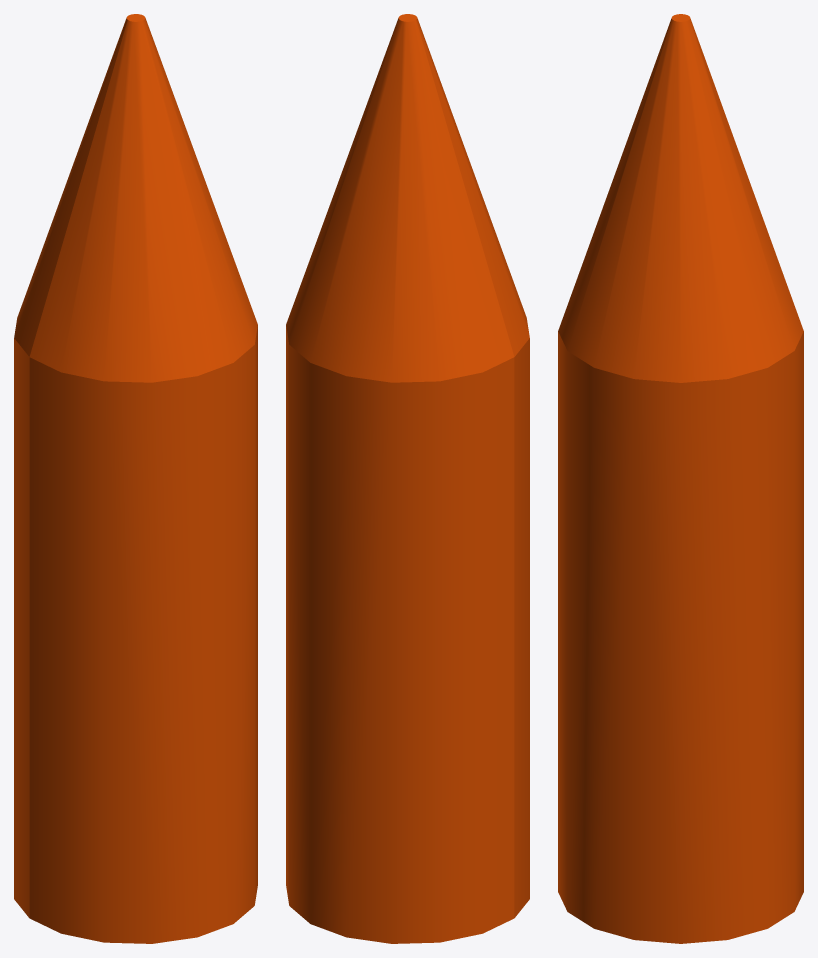
Rendered from eff_effectproxies_firework_rocket.fbx.
The picture shows the model from 3 angles, left to right: view 1: azimuth 30°, elevation 25°; view 2: azimuth 150°, elevation 25°; view 3: azimuth 270°, elevation 25°; orthographic projection.
Parts seen in each view (by area): view 1: part5_lp.004; view 2: part5_lp.004; view 3: part5_lp.004.
Boxes of the visible parts, bbox=[...] form: part5_lp.004: bbox=[14, 14, 257, 943]; part5_lp.004: bbox=[286, 14, 529, 943]; part5_lp.004: bbox=[558, 14, 803, 943].
Size of the model in its own units: 0.6177 by 2.42 by 0.6177.
